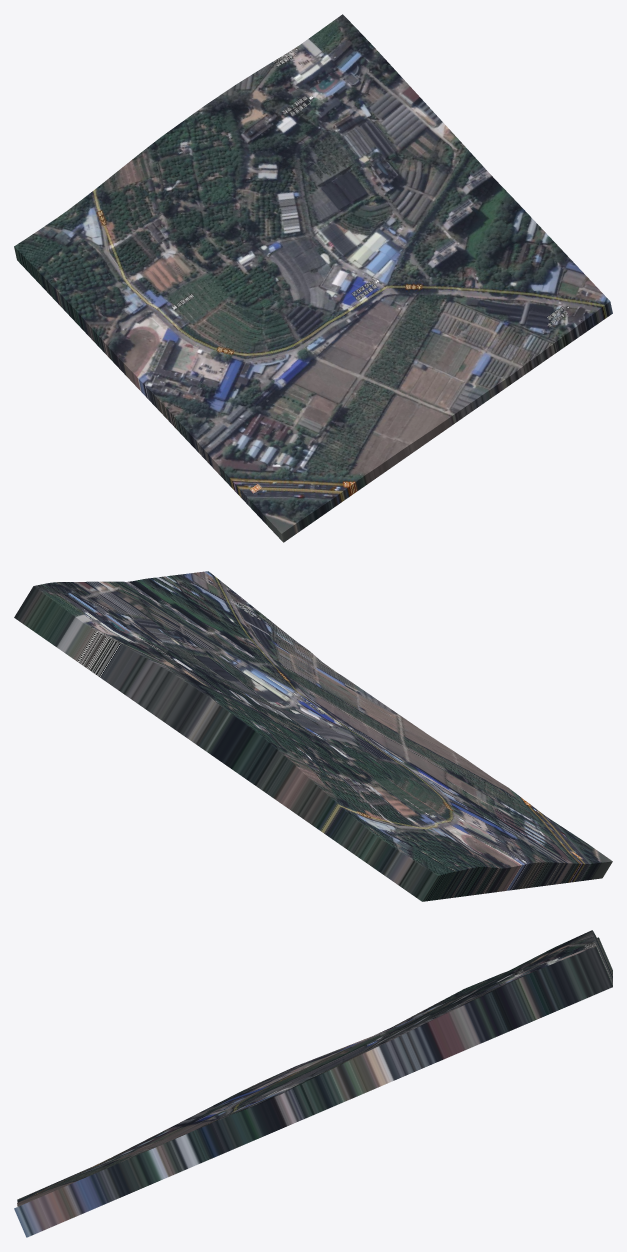
3 renders of one model, top to bottom at view 1: azimuth 30°, elevation 25°; view 2: azimuth 150°, elevation 25°; view 3: azimuth 270°, elevation 25°, orthographic. The views are drawn at different scales.
Parts seen in each view (by area): view 1: 0_4_31; view 2: 0_4_31; view 3: 0_4_31.
Part boxes in pixels (left/top/right/bottom): 0_4_31: left=14, top=14, right=612, bottom=542; 0_4_31: left=14, top=571, right=612, bottom=901; 0_4_31: left=14, top=930, right=612, bottom=1237.
Size of the model in its own units: 604 by 463 by 553.
Materials: 1 (1 with a texture image).
